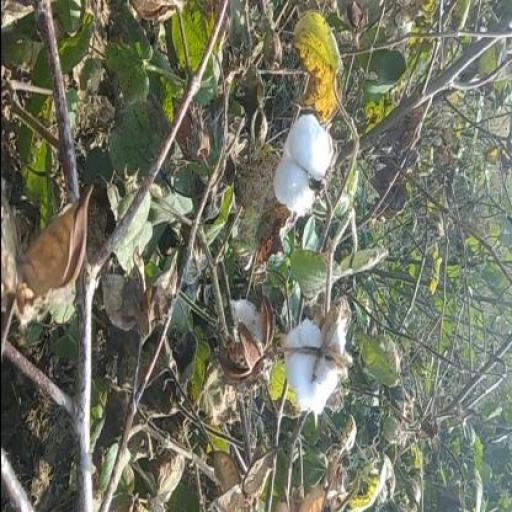cotton_ready: (268, 306, 352, 414), (269, 110, 333, 221)
